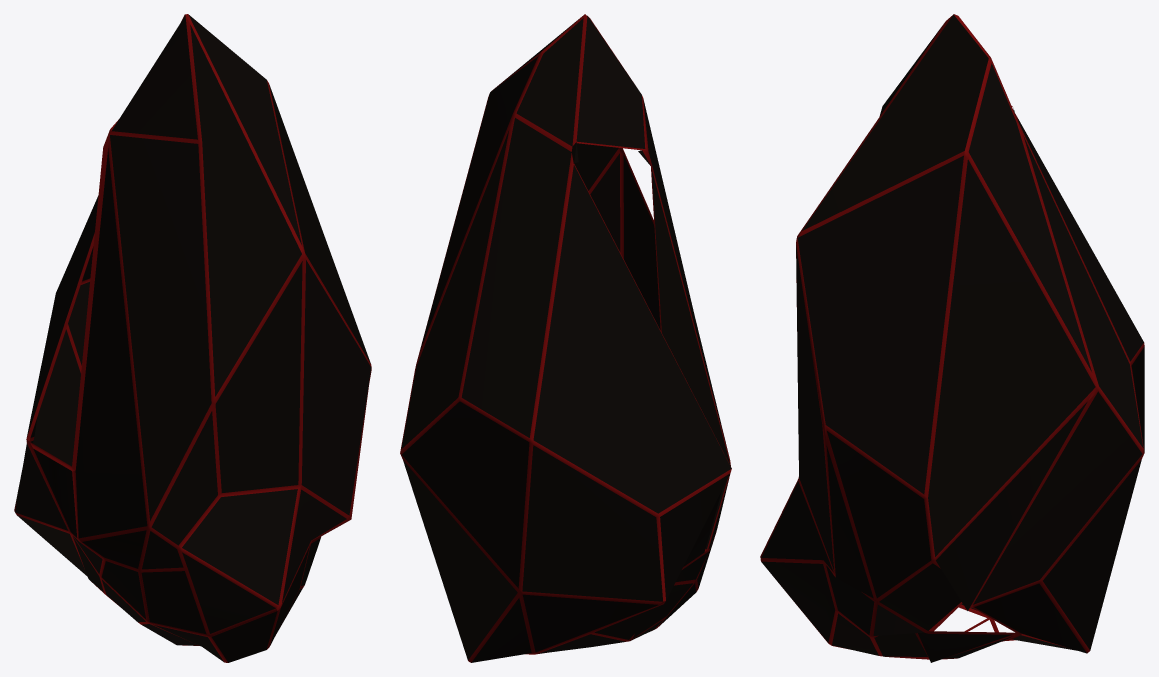
The model's file is BigRocker.fbx.
3 views of the same model, side by side, from view 1: azimuth 30°, elevation 25°; view 2: azimuth 150°, elevation 25°; view 3: azimuth 270°, elevation 25° (orthographic). The views are drawn at different scales.
Visible parts, largest first — view 1: BigRocker; view 2: BigRocker; view 3: BigRocker.
Part boxes in pixels (x1=…): BigRocker: x1=14, y1=14, x2=371, y2=662; BigRocker: x1=400, y1=14, x2=731, y2=662; BigRocker: x1=760, y1=14, x2=1144, y2=662.
Bounding box in the file's own units: 274 × 544 × 298.
